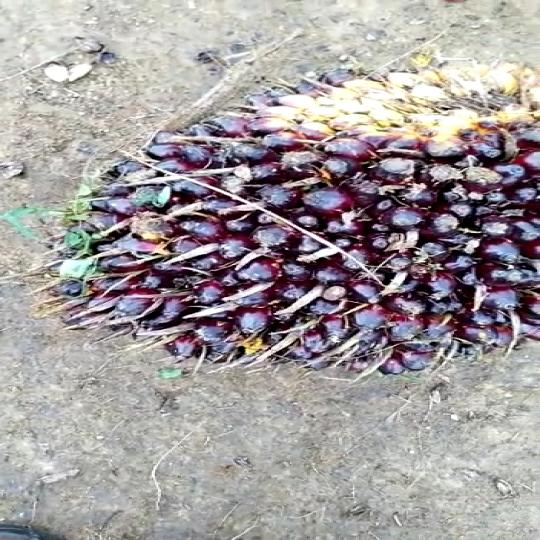mentah: (55, 50, 540, 375)
